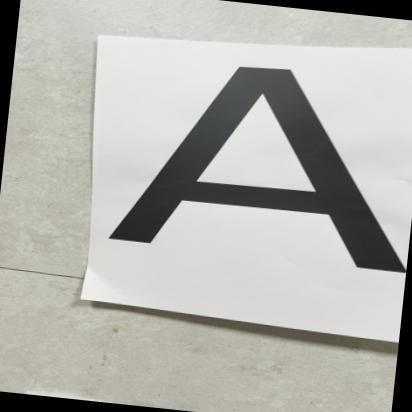seat: (84, 39, 412, 301)
